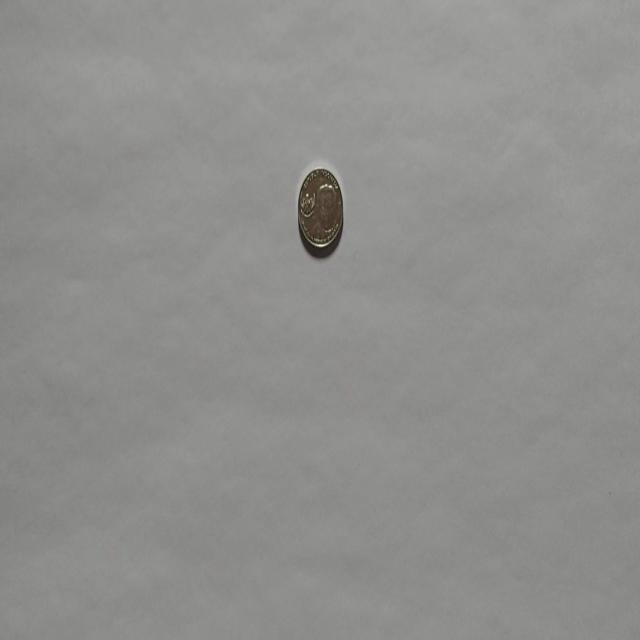seratus rupiah: (296, 165, 344, 255)
